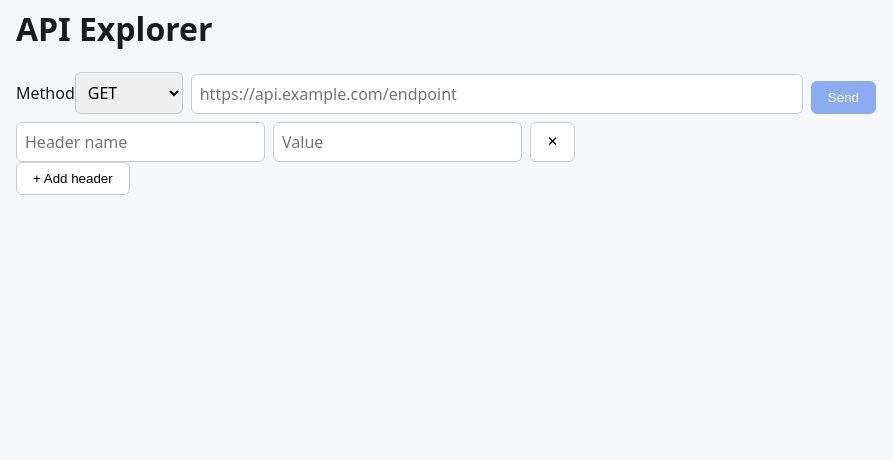
App › renders the response viewer on success
The width and height of the screenshot is (893, 460).
In the field with placeholder "https://api.example.com/endpoint": (497, 94) [191,74,803,114], type "https://api.test/x"
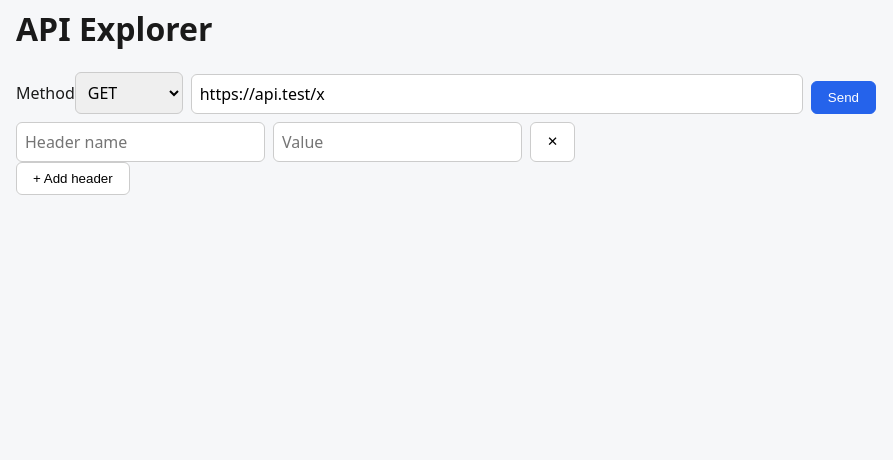
Click the button "Send": (843, 97) [811,81,876,114]
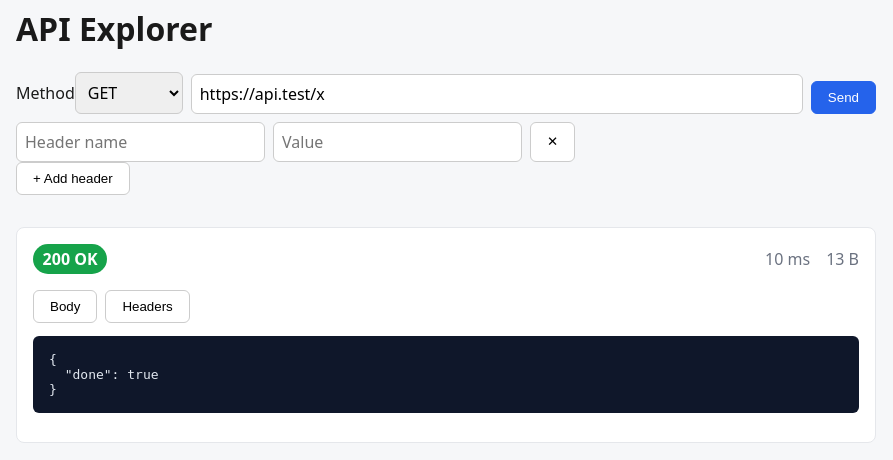
Now the text "200 OK" is shown, box [33,244,107,274]
